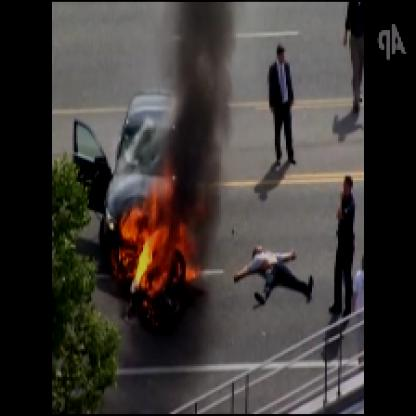Fire: (115, 160, 210, 299)
Smoke: (156, 2, 236, 232)
